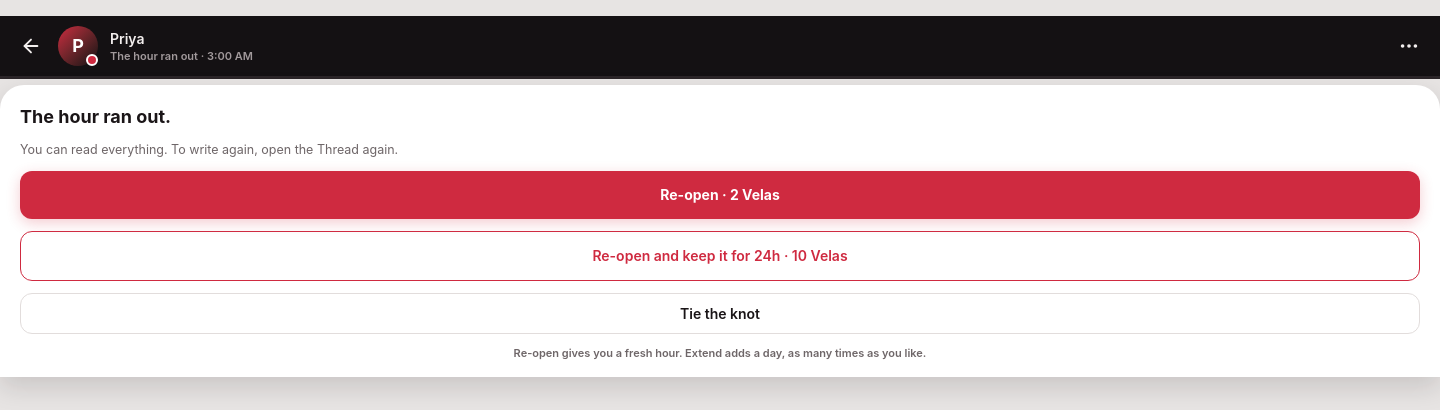
his expired Thread (D-097, D-253) › asks for a new price when it changed, charging nothing (P-56)
The width and height of the screenshot is (1440, 410).
Click the button "Re-open · 2 Velas" at {"x": 720, "y": 195}, box top-left (20, 171), bottom-right (1420, 219)
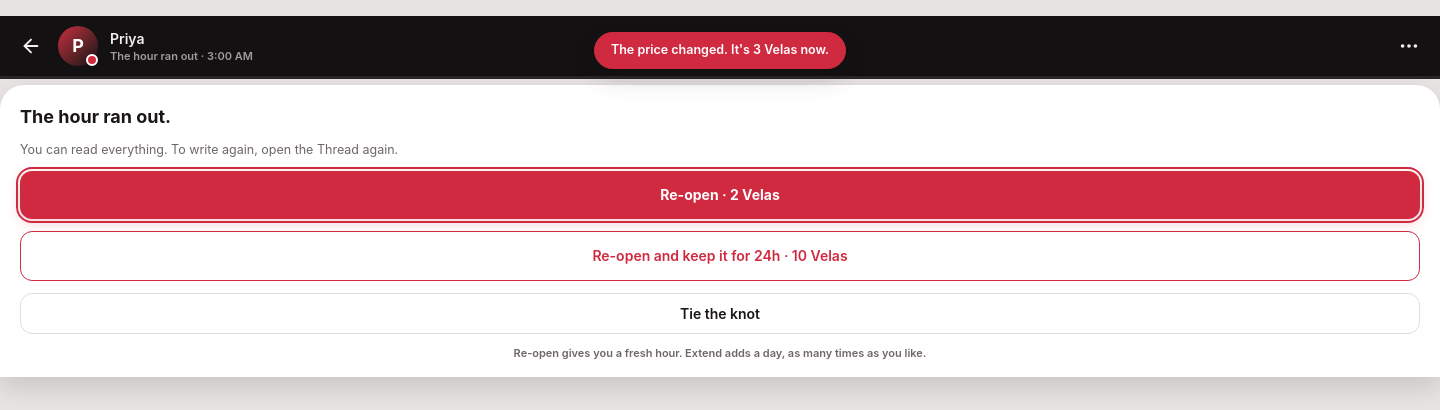
Now the text "The price changed. It's 3 Velas now." is shown, box top-left (611, 41), bottom-right (829, 60)
